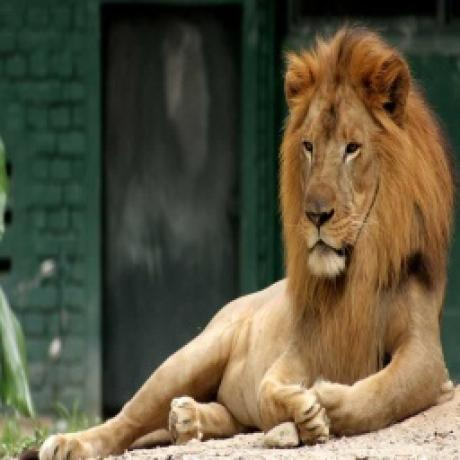Lion: (36, 19, 455, 460)
